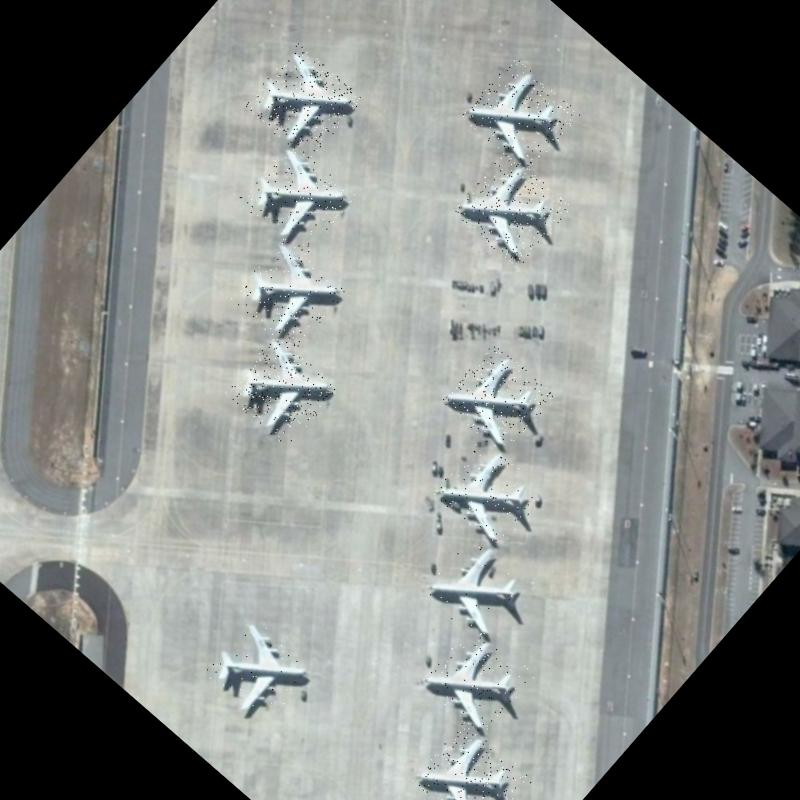A11: (420, 528, 543, 650), (242, 43, 364, 164), (461, 56, 582, 176), (452, 150, 572, 270), (236, 139, 356, 259), (229, 237, 347, 355), (199, 615, 317, 733), (430, 435, 548, 552), (439, 341, 556, 457), (420, 621, 536, 737), (224, 334, 340, 449), (412, 719, 535, 800)
